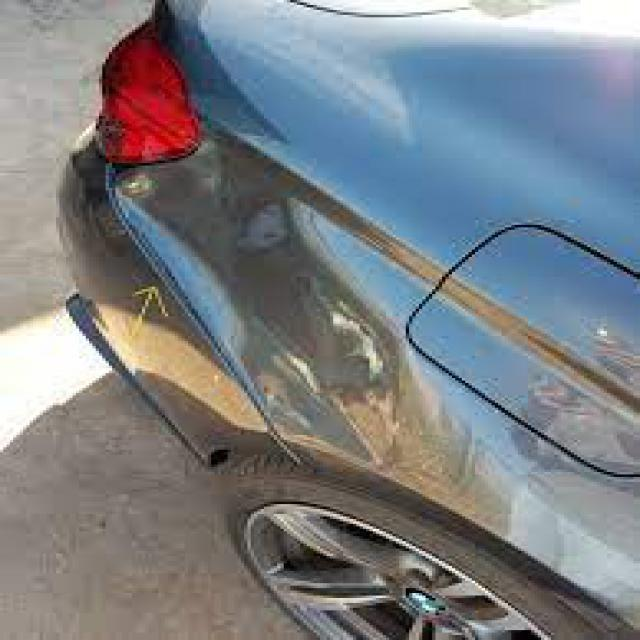quaterpanel-dent: (214, 203, 574, 610)
